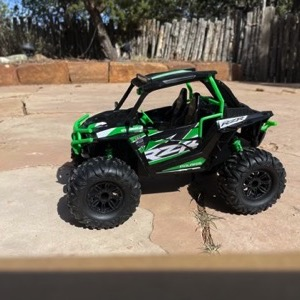polaris: (66, 68, 288, 232)
